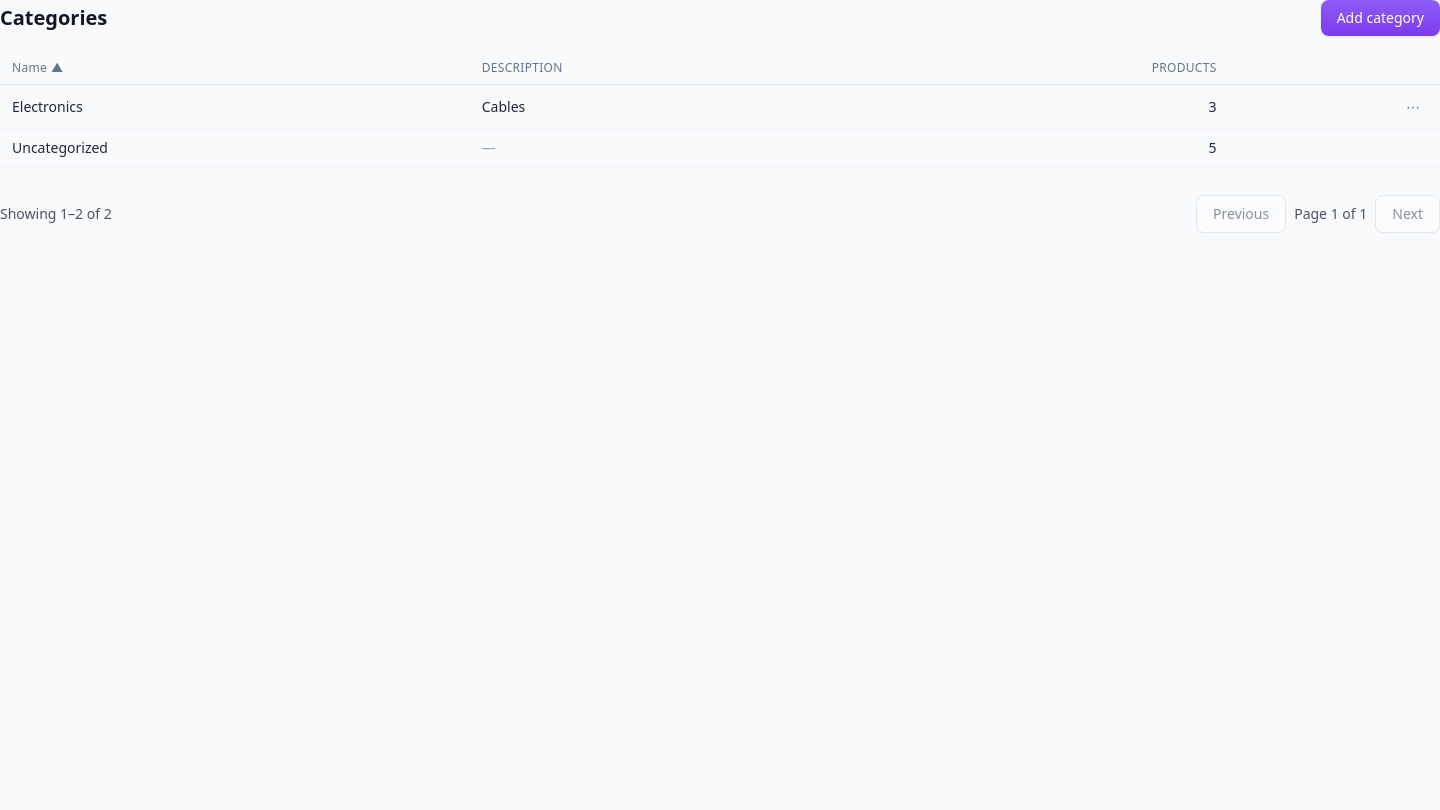
Categories page (FR-CAT) › maps a duplicate name to an inline field error, preserving input (APR-08)
Click the button "Add category". click: click(1380, 18)
box: [1321,0,1439,36]
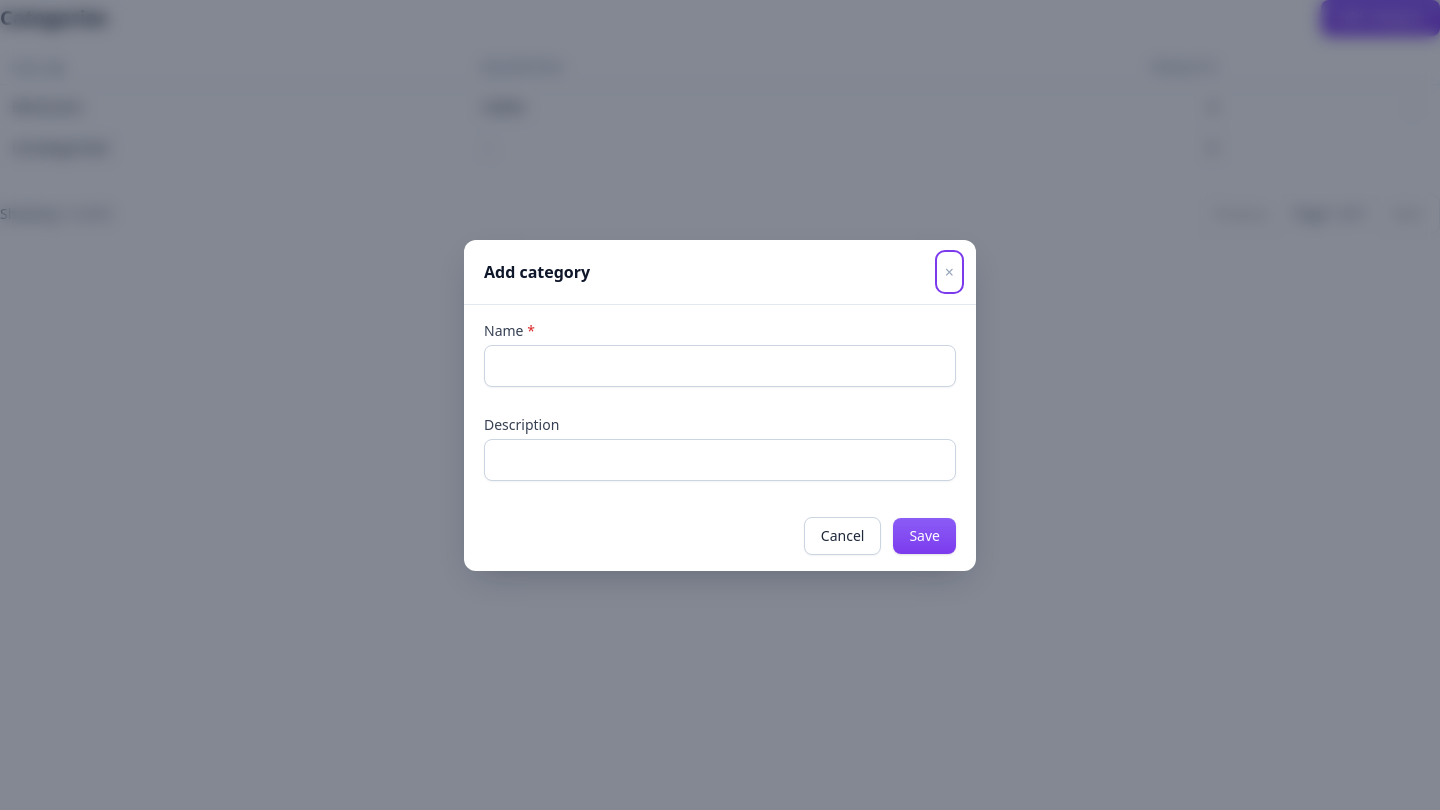
Type "Electronics" into the field labelled "Name *". click: (720, 366)
box: [484,344,956,386]
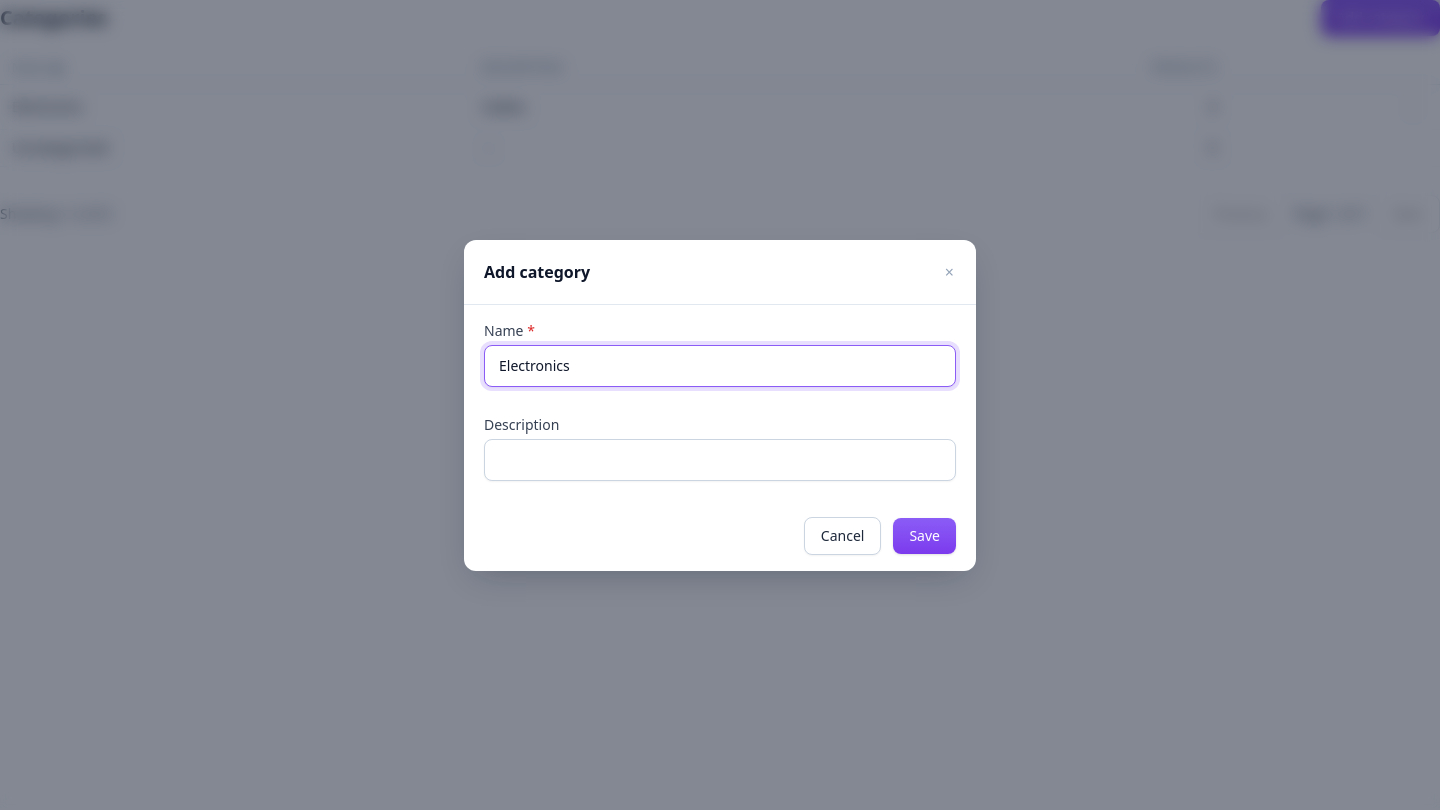
Click the button "Save". click: click(925, 536)
box: [893,518,956,554]
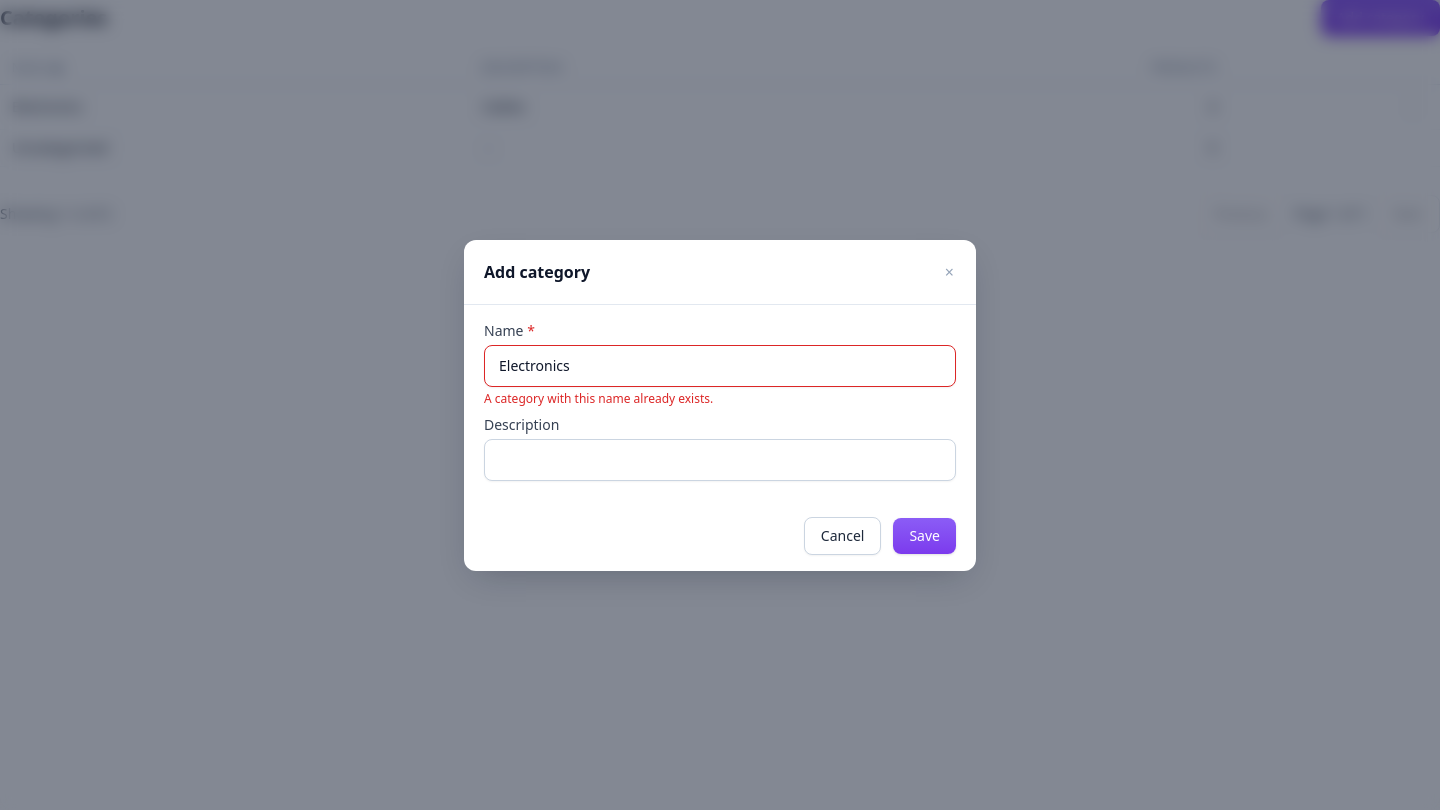
Check: the text "A category with this name already exists." is shown, box [484,390,713,406]
